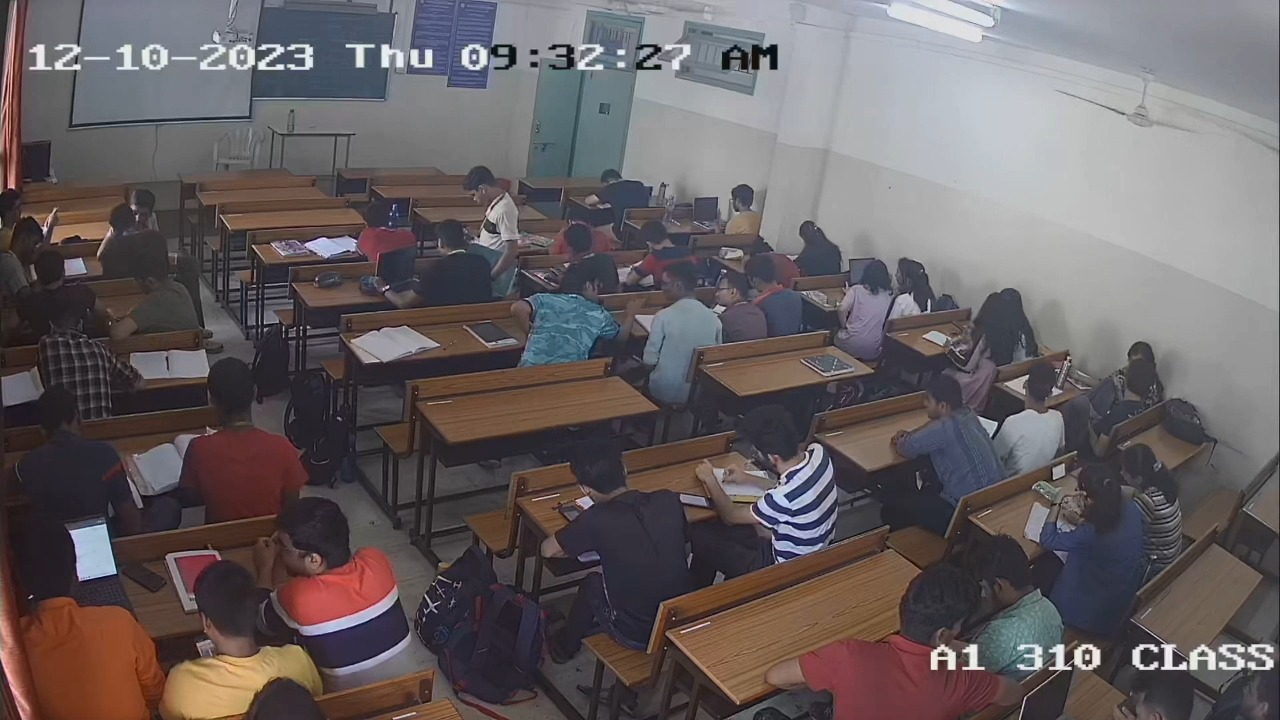cell-phones: (118, 556, 166, 595), (557, 490, 600, 515), (672, 485, 710, 511), (1048, 462, 1070, 480)
person: (153, 560, 327, 720), (540, 438, 693, 610), (723, 402, 841, 569), (1036, 461, 1148, 596)
